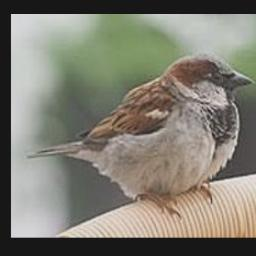Sparrow: (27, 52, 255, 218)
